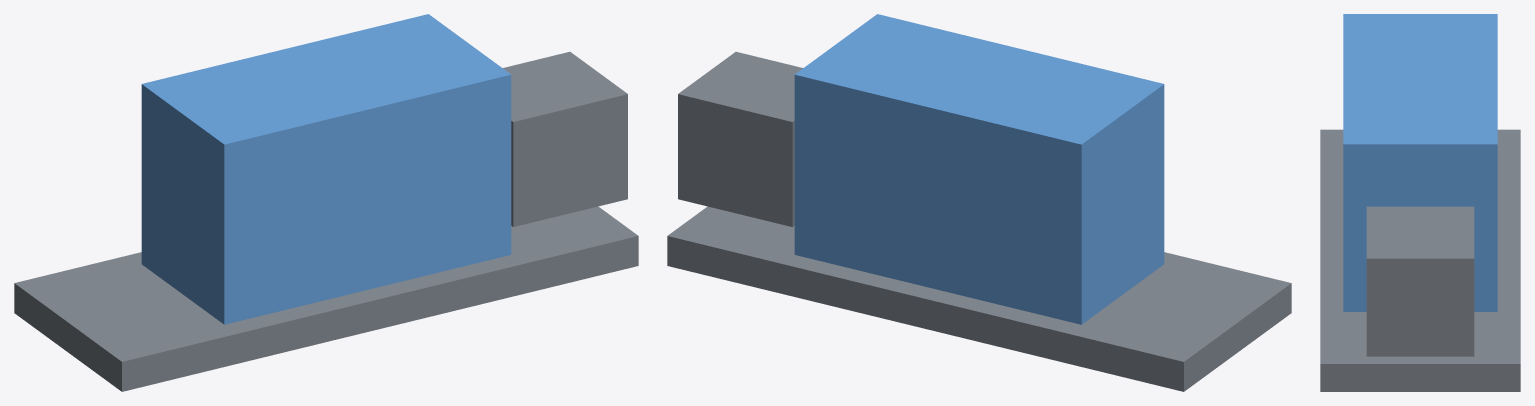
File: media-demo.glb
The picture shows the model from 3 angles, left to right: view 1: azimuth 30°, elevation 25°; view 2: azimuth 150°, elevation 25°; view 3: azimuth 270°, elevation 25°; orthographic projection. The views are drawn at different scales.
Visible parts, largest first — view 1: 主体示意, 底座示意, 驱动示意; view 2: 主体示意, 底座示意, 驱动示意; view 3: 主体示意, 底座示意, 驱动示意.
Boxes of the visible parts, box(x1,y1,x2,y2) form: 主体示意: box(141, 14, 511, 324); 底座示意: box(14, 206, 638, 391); 驱动示意: box(503, 51, 627, 226); 主体示意: box(794, 14, 1164, 324); 底座示意: box(667, 206, 1291, 391); 驱动示意: box(678, 51, 802, 226); 主体示意: box(1343, 14, 1497, 311); 底座示意: box(1320, 129, 1520, 391); 驱动示意: box(1366, 206, 1474, 356).
Size of the model in its own units: 3.7 by 1.4 by 1.3.
